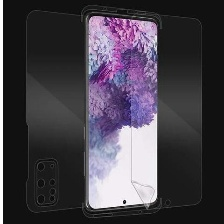phone: (80, 7, 163, 213)
